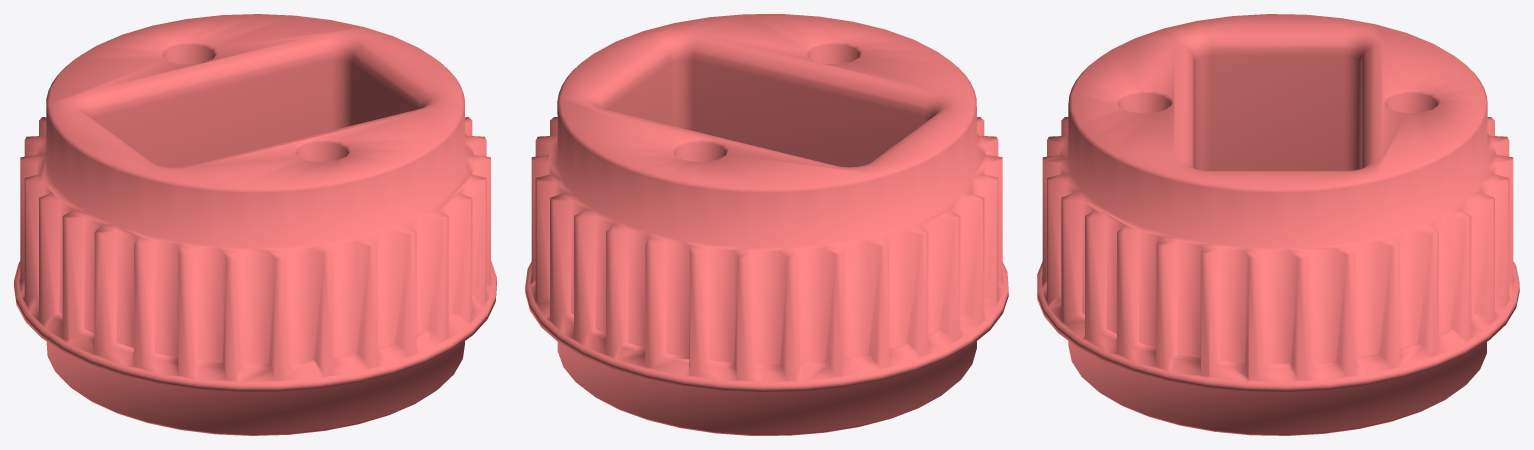
Rendered from solo12_hip_fe_fr_1.obj.
The picture shows the model from 3 angles, left to right: view 1: azimuth 30°, elevation 25°; view 2: azimuth 150°, elevation 25°; view 3: azimuth 270°, elevation 25°; orthographic projection.
Bounding box in the file's own units: 0.029 × 0.0164 × 0.0289.
